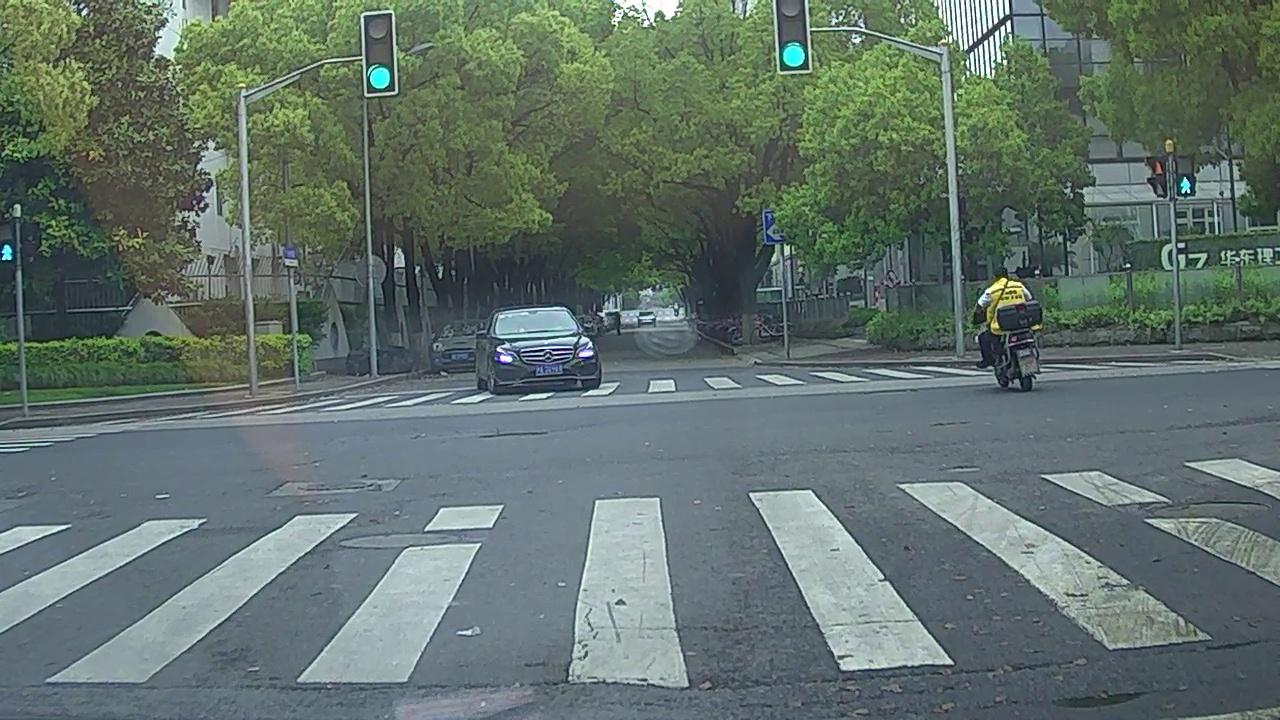traffic_light: (364, 14, 396, 95), (777, 1, 810, 71)
